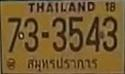3: (102, 16, 118, 51), (23, 17, 38, 51), (52, 16, 66, 51)
4: (85, 16, 99, 51)
5: (68, 16, 82, 51)
7: (7, 16, 21, 52)
SPK: (26, 54, 99, 70)
